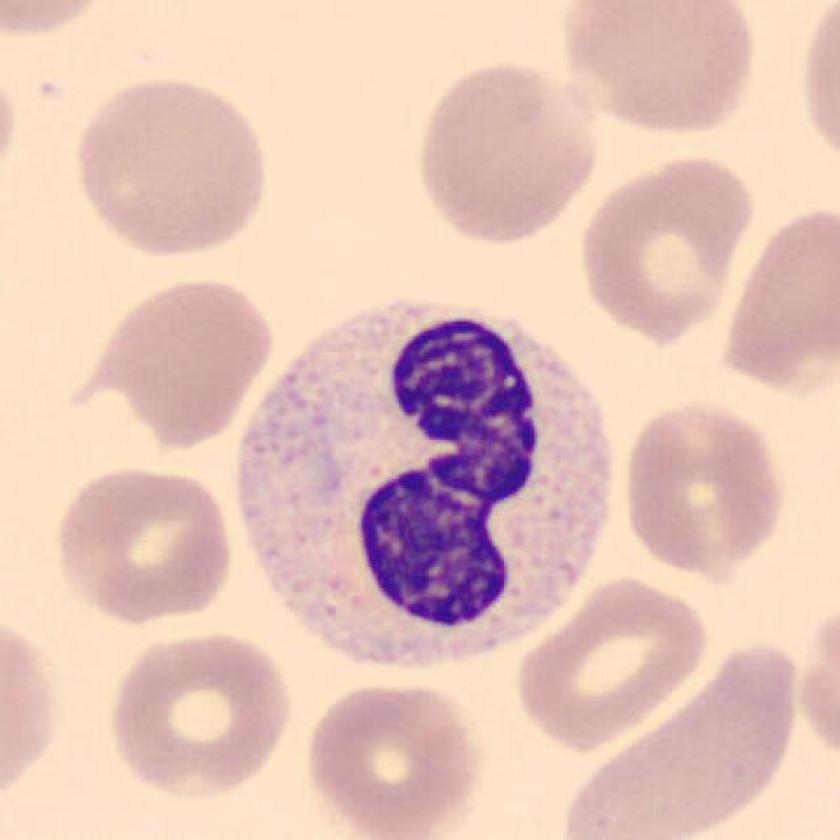neutrophil: (236, 299, 613, 669)
